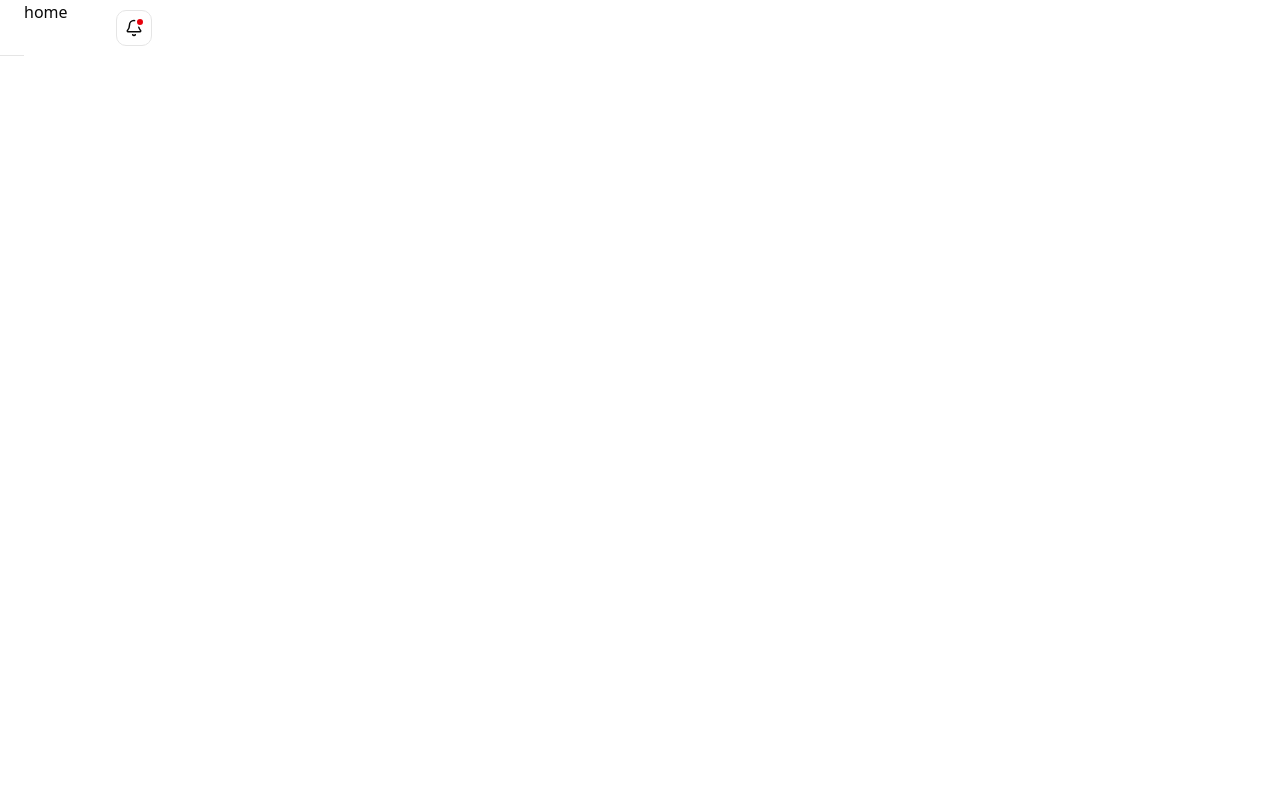
it: the bell › opens a popover with the latest items: title, body, when, and a dot while unread
Step 1. Press the mouse on the button named "通知，1 条未读" → (134, 28), box [116,10,152,46]
Step 2. Click the button named "通知，1 条未读" → (134, 28), box [116,10,152,46]
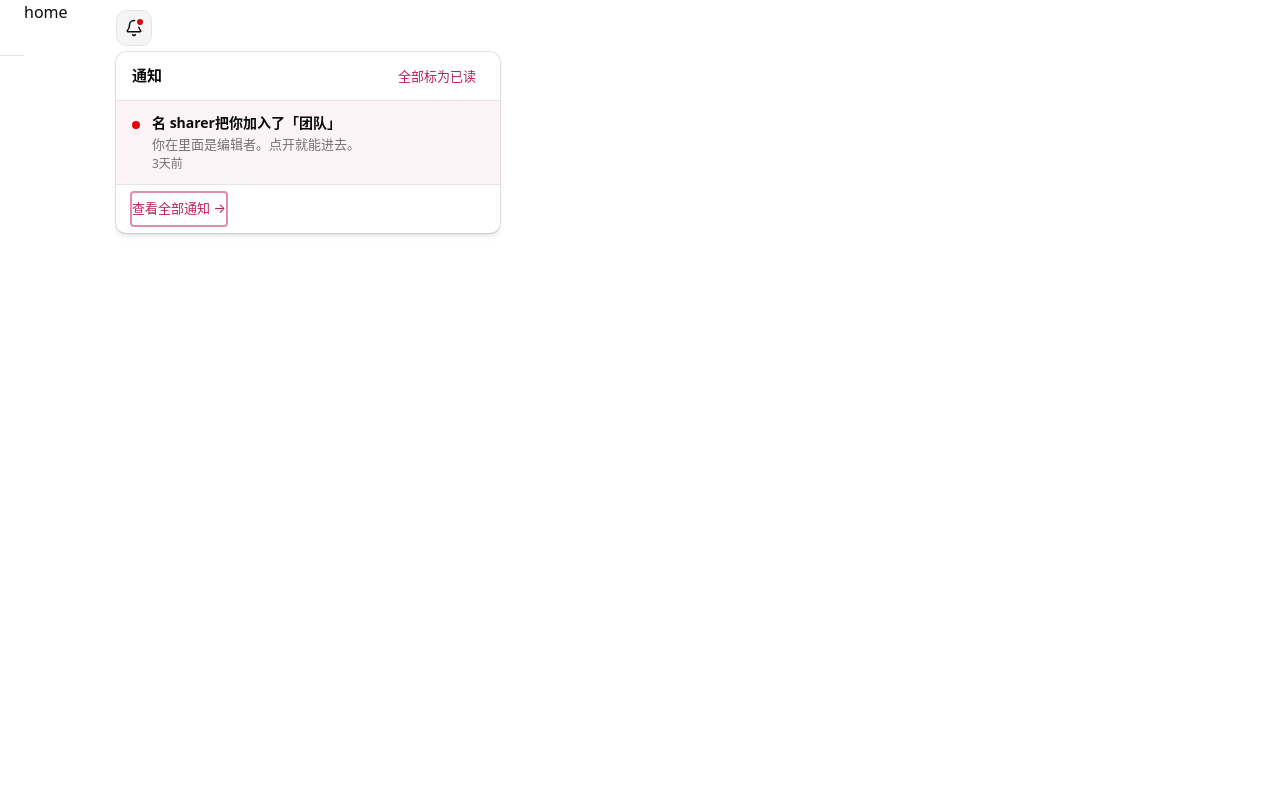
Expected: the link that starts with "名 sharer把你加入了「团队」" is shown, [116,101,500,184]
Expected: the link that starts with "名 sharer把你加入了「团队」" shows "你在里面是编辑者", [116,101,500,184]
Expected: the element named "通知" shows "全部标为已读", [390,60,484,92]
